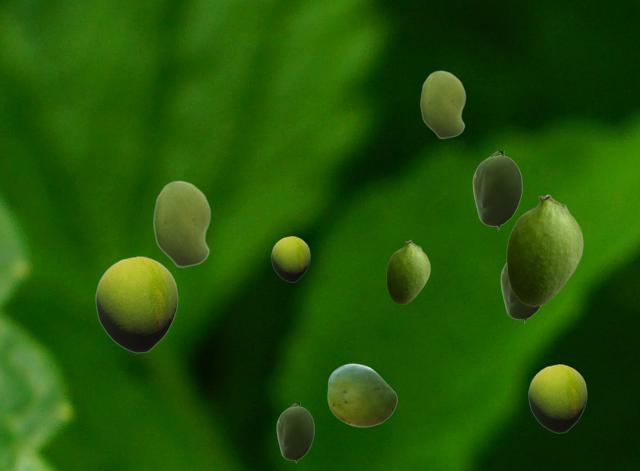green_mango: (506, 194, 582, 305), (95, 256, 177, 352), (153, 180, 210, 267), (327, 363, 396, 426), (528, 364, 586, 432), (472, 151, 521, 229), (420, 70, 465, 138), (386, 240, 429, 303), (500, 263, 541, 322), (276, 403, 313, 462), (271, 236, 309, 281)
